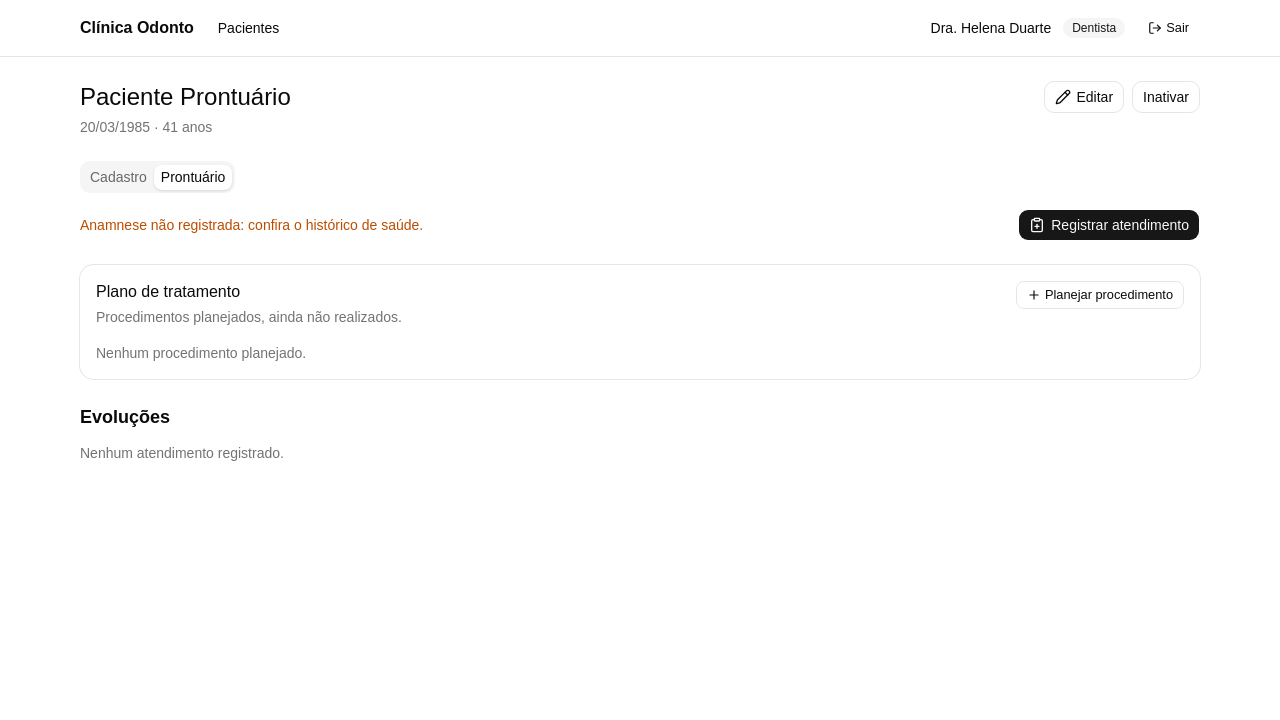
Test: plano de tratamento › dentes decíduos ficam disponíveis no seletor
Click the button "Planejar procedimento" at (1100, 295), box top-left (1016, 281), bottom-right (1184, 309)
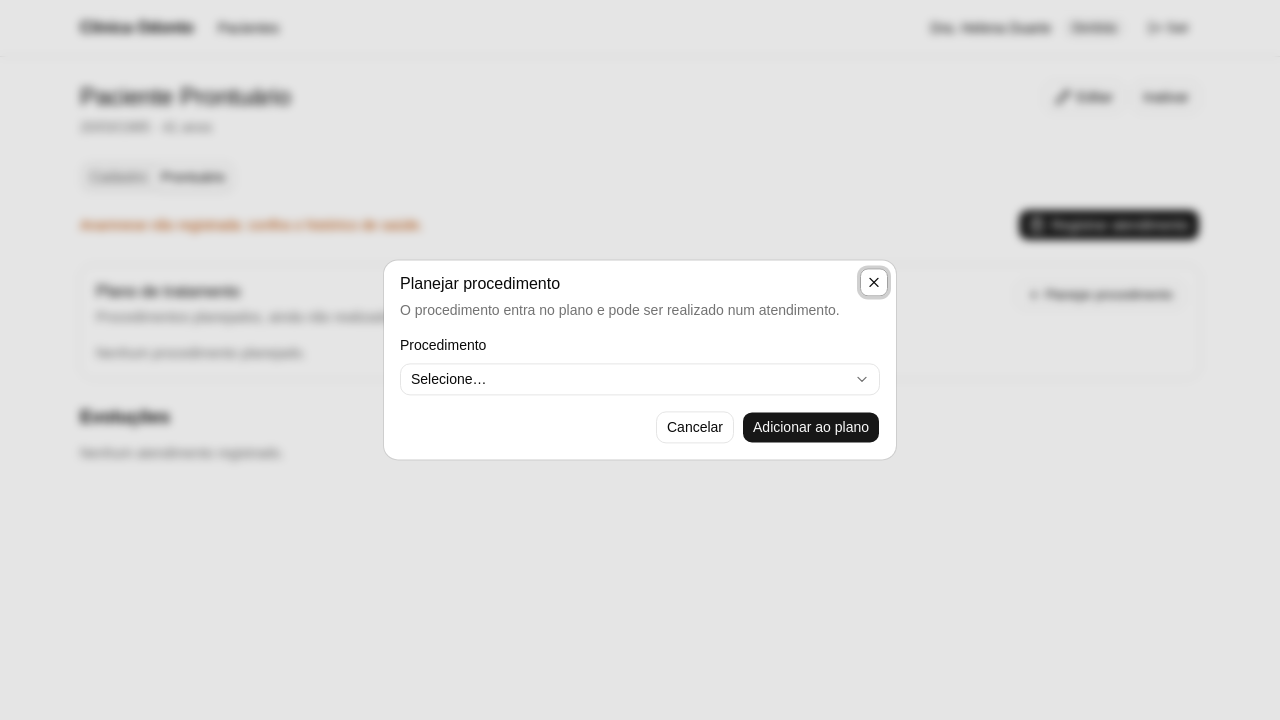
Select "Exodontia simples" in the dropdown labelled "Procedimento" at (640, 380), box top-left (400, 364), bottom-right (880, 396)
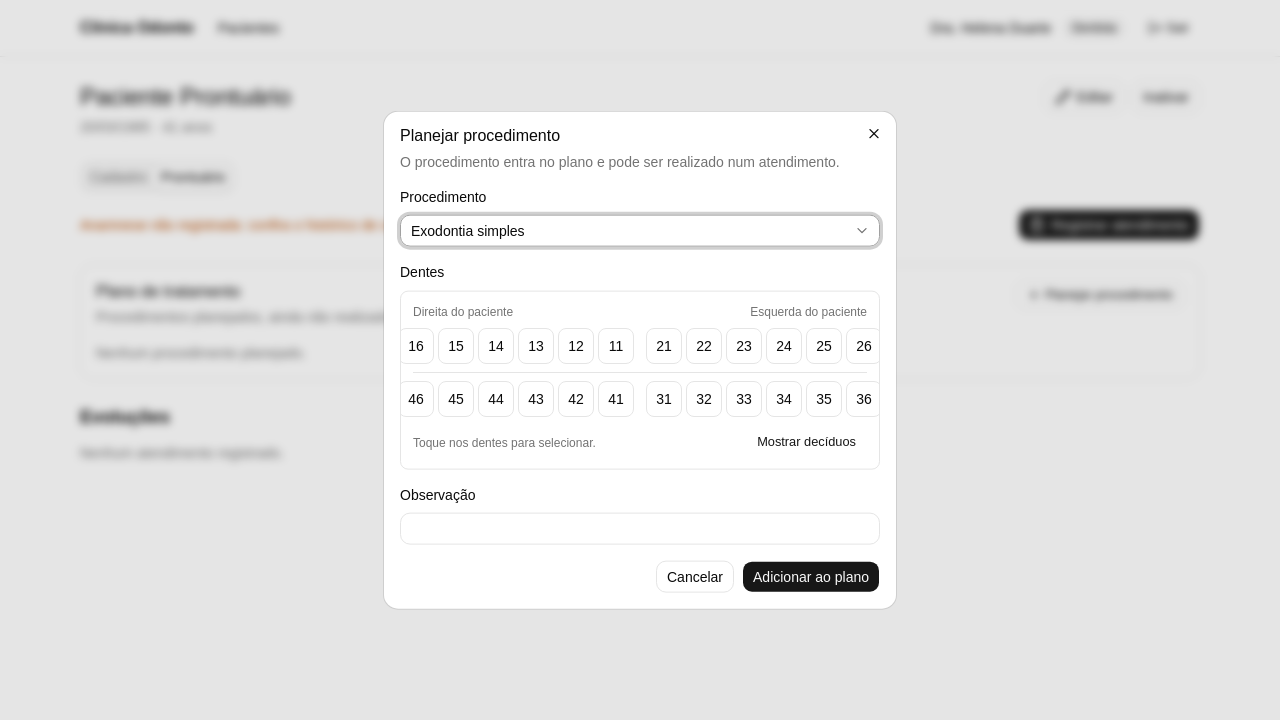
Expected: the button "Dente 75" is not shown
Click the button "Mostrar decíduos" at (807, 442), box top-left (746, 428), bottom-right (867, 456)
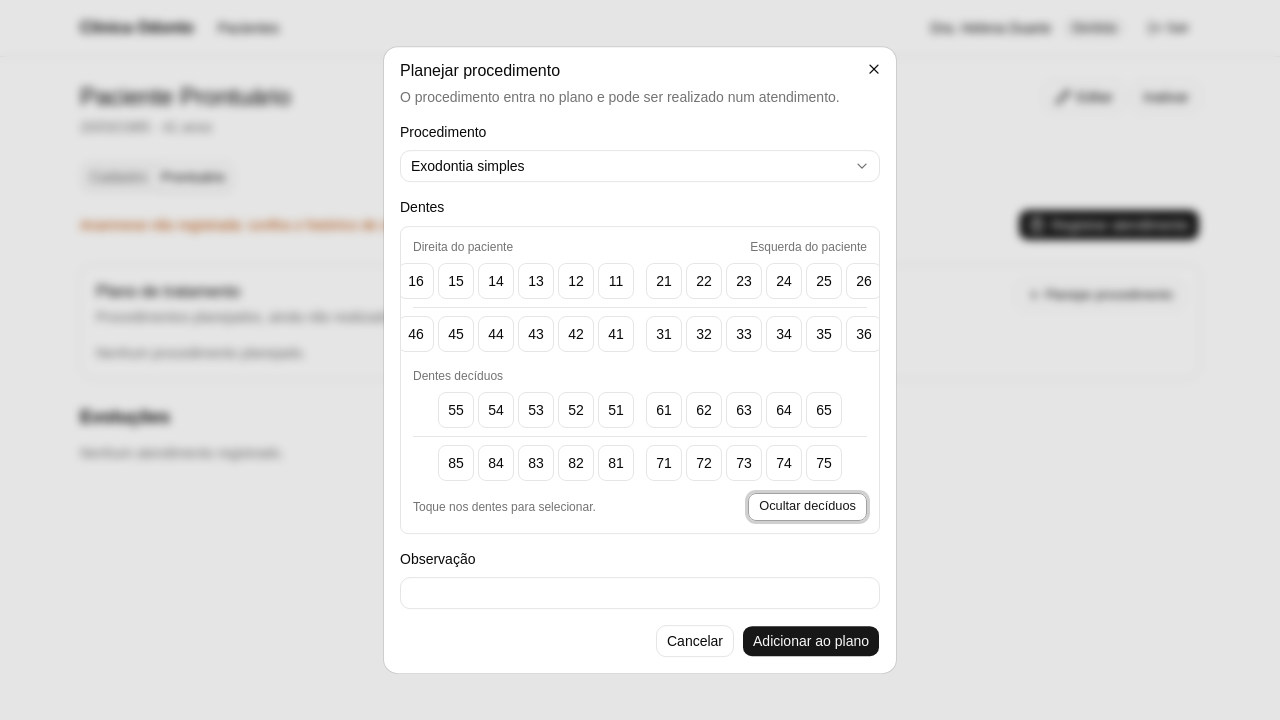
Click the button named "Dente 75" at (824, 463), box top-left (806, 445), bottom-right (842, 481)
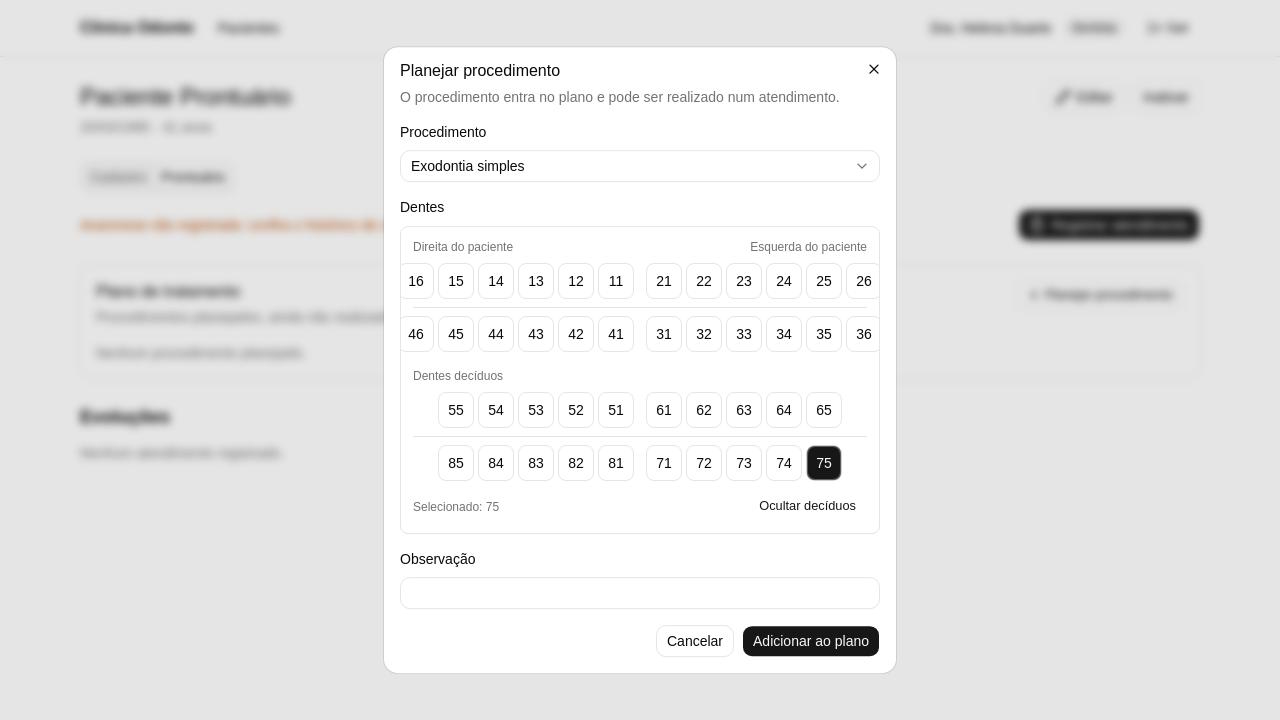
Click the button "Adicionar ao plano" at (811, 641), box top-left (742, 625), bottom-right (880, 657)
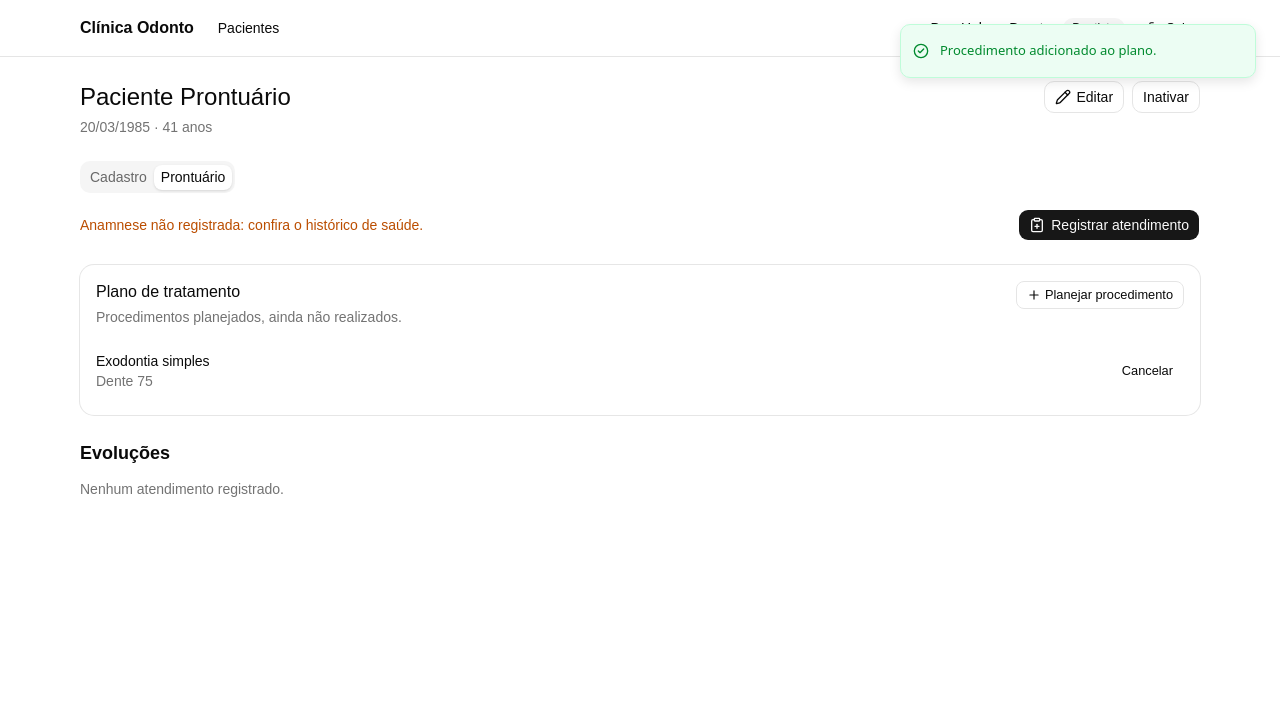
Expected: the list named "Procedimentos planejados" shows "Dente 75", top-left (96, 373), bottom-right (153, 389)
